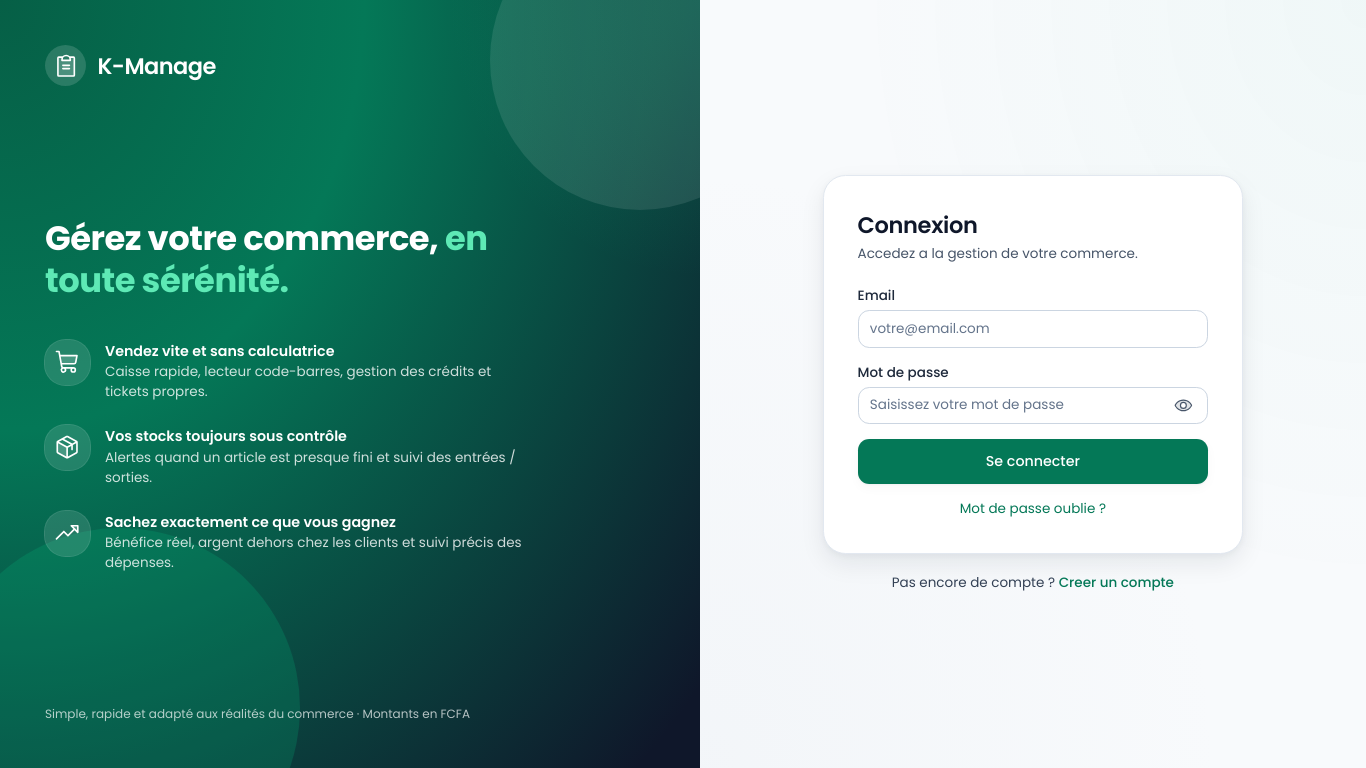
Test case: authentification et navigation › affiche l'erreur du serveur lisible en cas d'identifiants incorrects
The width and height of the screenshot is (1366, 768).
Type "a@b.bj" into the field labelled "Email".
click(1033, 329); type("a@b.bj")  # box [858,310,1208,348]
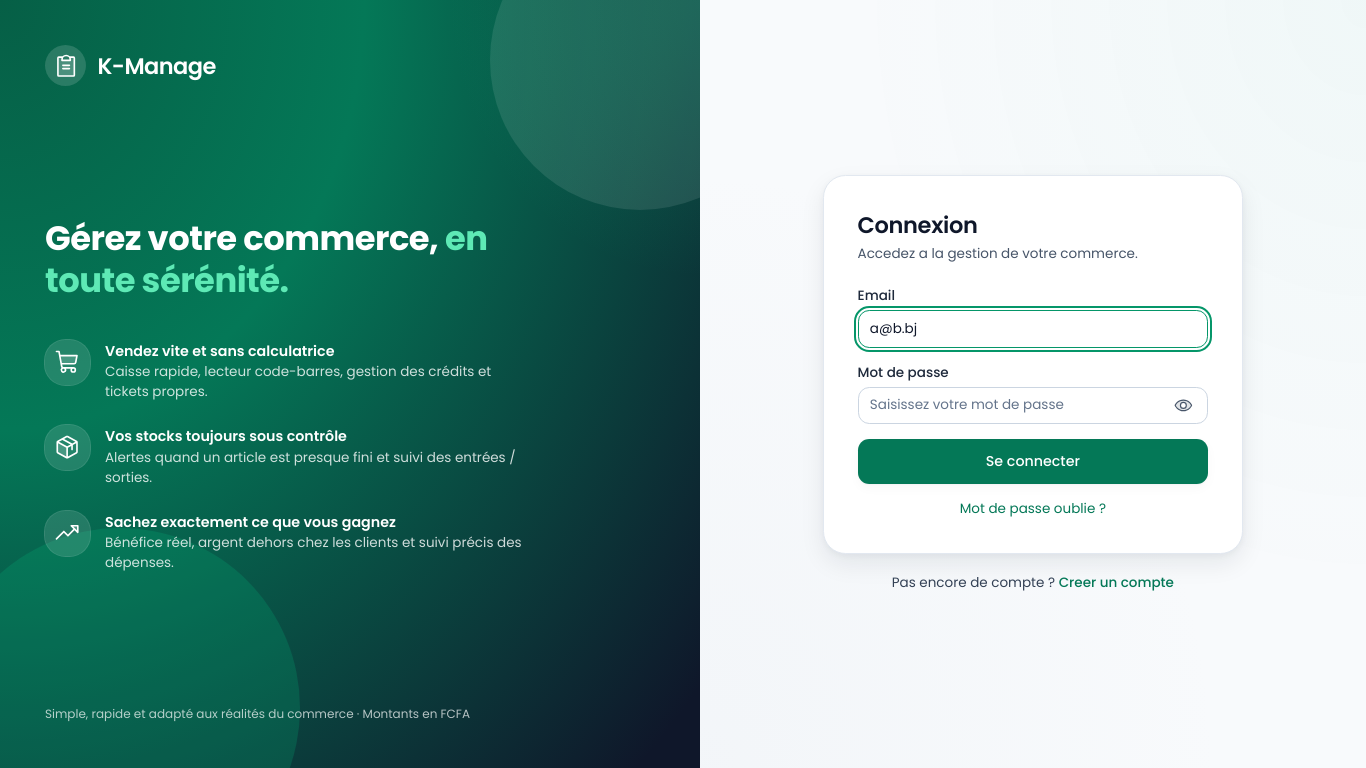
Type "mauvais" into the password field labelled "Mot de passe".
click(1033, 405); type("mauvais")  # box [858,387,1208,424]
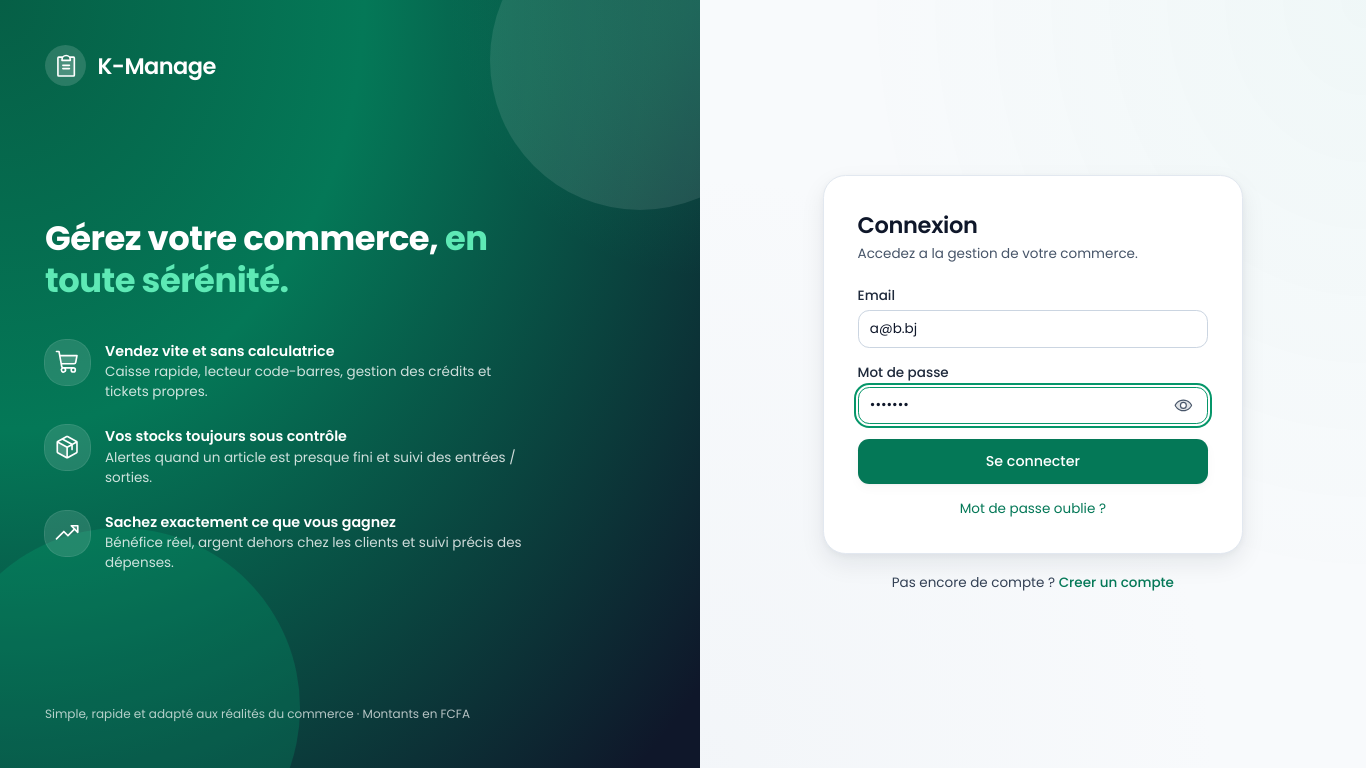
Click the button "Se connecter".
click(1033, 461)  # box [858,439,1208,484]
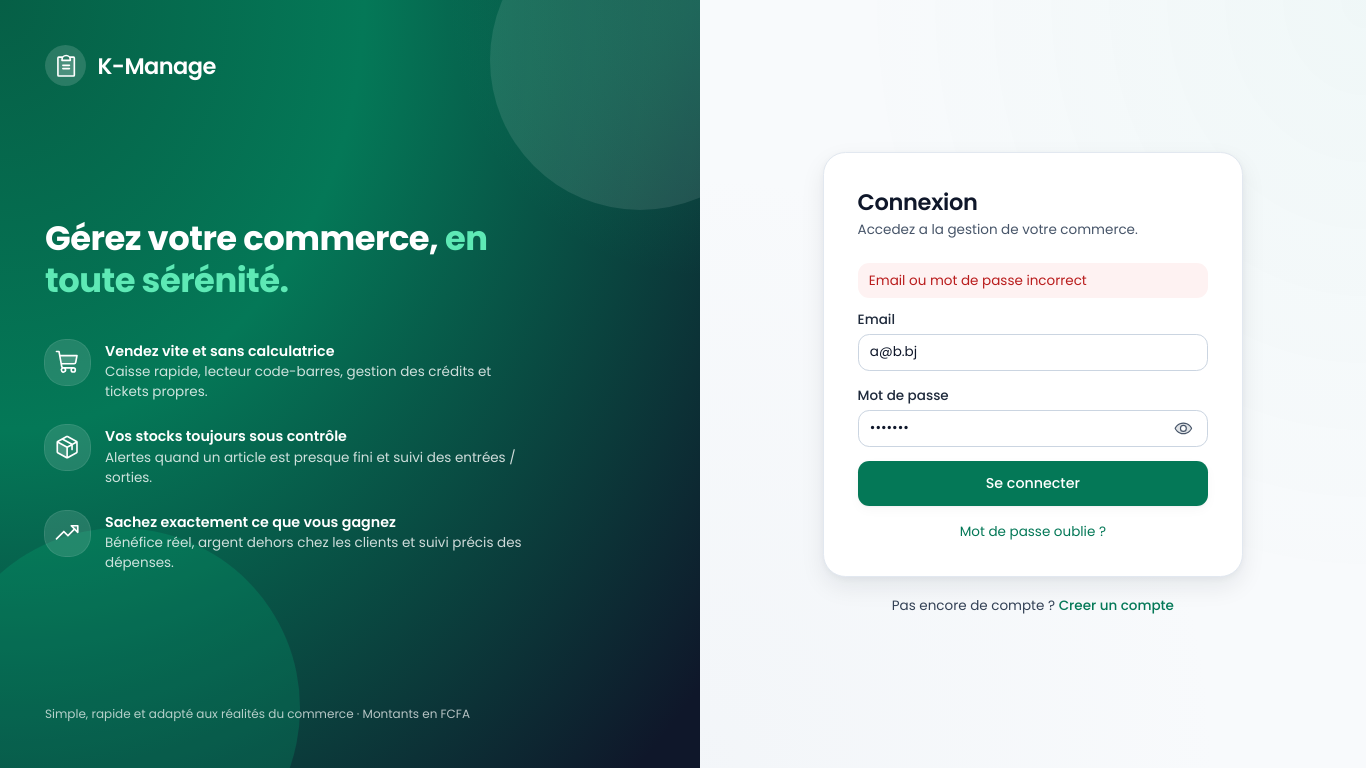
Check: the message reads "Email ou mot de passe incorrect", box [869,271,1087,290]
